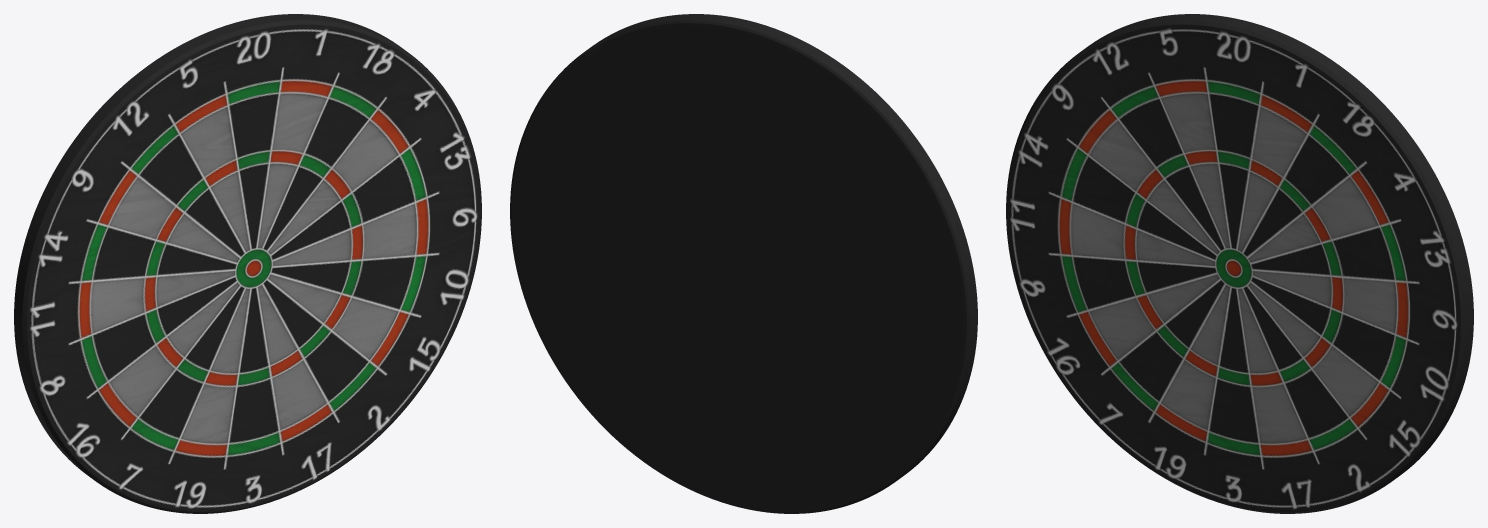
Rendered from Tiro al blanco.glb.
3 renders of one model, left to right at view 1: azimuth 30°, elevation 25°; view 2: azimuth 150°, elevation 25°; view 3: azimuth 330°, elevation 25°, orthographic.
Visible parts, largest first — view 1: 11721_darboard_model; view 2: 11721_darboard_model; view 3: 11721_darboard_model.
Boxes of the visible parts, x1=… form: 11721_darboard_model: x1=14, y1=14, x2=481, y2=513; 11721_darboard_model: x1=510, y1=14, x2=977, y2=513; 11721_darboard_model: x1=1006, y1=14, x2=1473, y2=513.
Size of the model in its own units: 53.5 by 53.5 by 2.21.
1 material, 1 textured.
